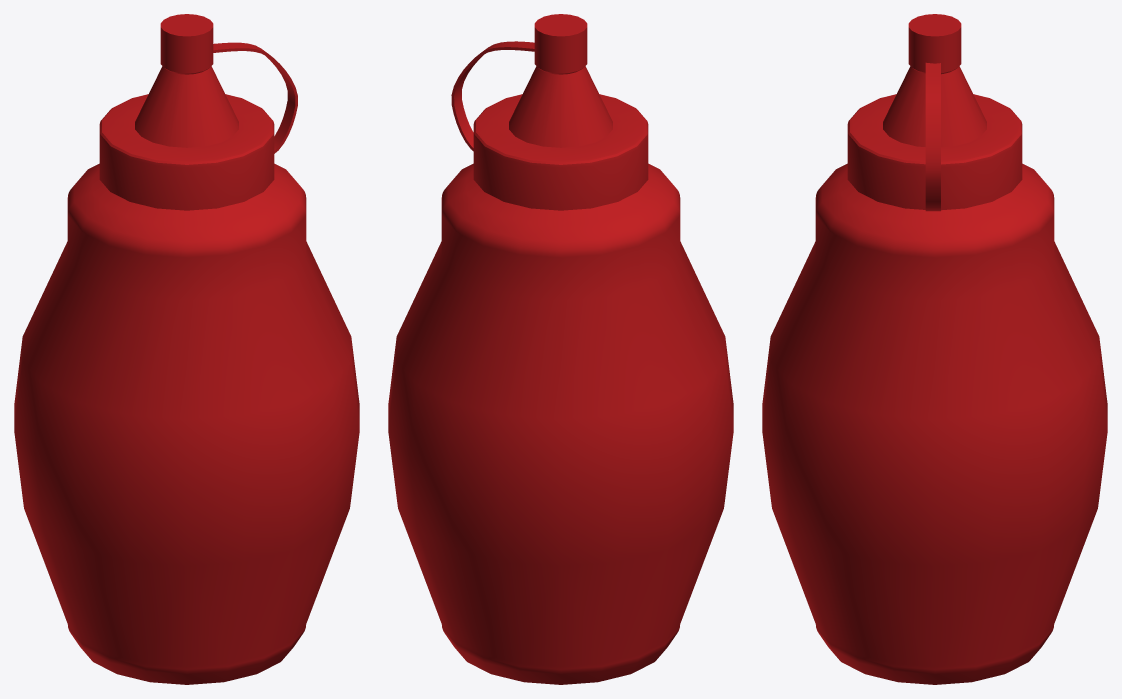
File: Ketchup.FBX
3 views of the same model, side by side, from view 1: azimuth 30°, elevation 25°; view 2: azimuth 150°, elevation 25°; view 3: azimuth 270°, elevation 25° (orthographic).
Visible parts, largest first — view 1: Ketchup; view 2: Ketchup; view 3: Ketchup.
Boxes of the visible parts, box(x1,y1,x2,y2) form: Ketchup: box(14, 14, 359, 684); Ketchup: box(388, 14, 733, 684); Ketchup: box(762, 14, 1107, 684).
Bounding box in the file's own units: 8.23 × 15.89 × 8.1.
1 material, 1 textured.
